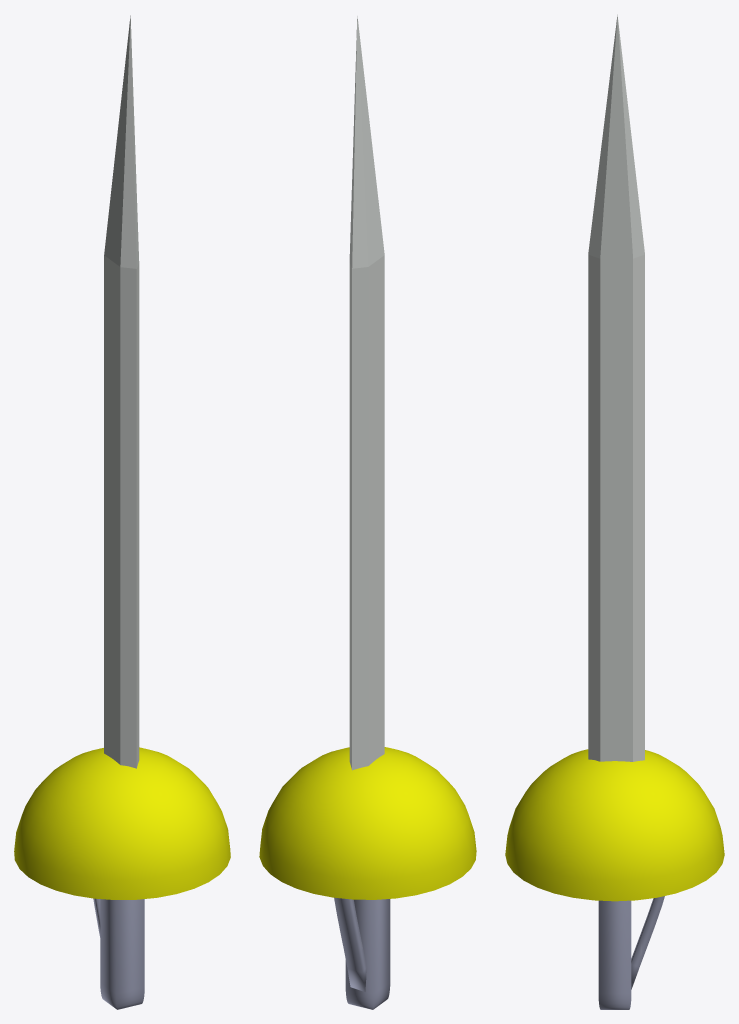
Rendered from rapier2.fbx.
The picture shows the model from 3 angles, left to right: view 1: azimuth 30°, elevation 25°; view 2: azimuth 150°, elevation 25°; view 3: azimuth 270°, elevation 25°; orthographic projection.
Visible parts, largest first — view 1: Sphere, Plane, Cube; view 2: Sphere, Plane, Cube, BezierCurve; view 3: Plane, Sphere, Cube, BezierCurve.
Part boxes in pixels (bbox=[...]): Sphere: bbox=[14, 747, 230, 899]; Plane: bbox=[104, 15, 139, 768]; Cube: bbox=[100, 899, 144, 1009]; Sphere: bbox=[259, 747, 476, 899]; Plane: bbox=[349, 16, 384, 770]; Cube: bbox=[345, 899, 390, 1009]; BezierCurve: bbox=[334, 897, 366, 991]; Plane: bbox=[588, 14, 644, 761]; Sphere: bbox=[505, 749, 724, 901]; Cube: bbox=[598, 900, 631, 1009]; BezierCurve: bbox=[631, 896, 664, 989].
Bounding box in the file's own units: 200 × 1000 × 200.
Materials: 4 (2 with a texture image).
